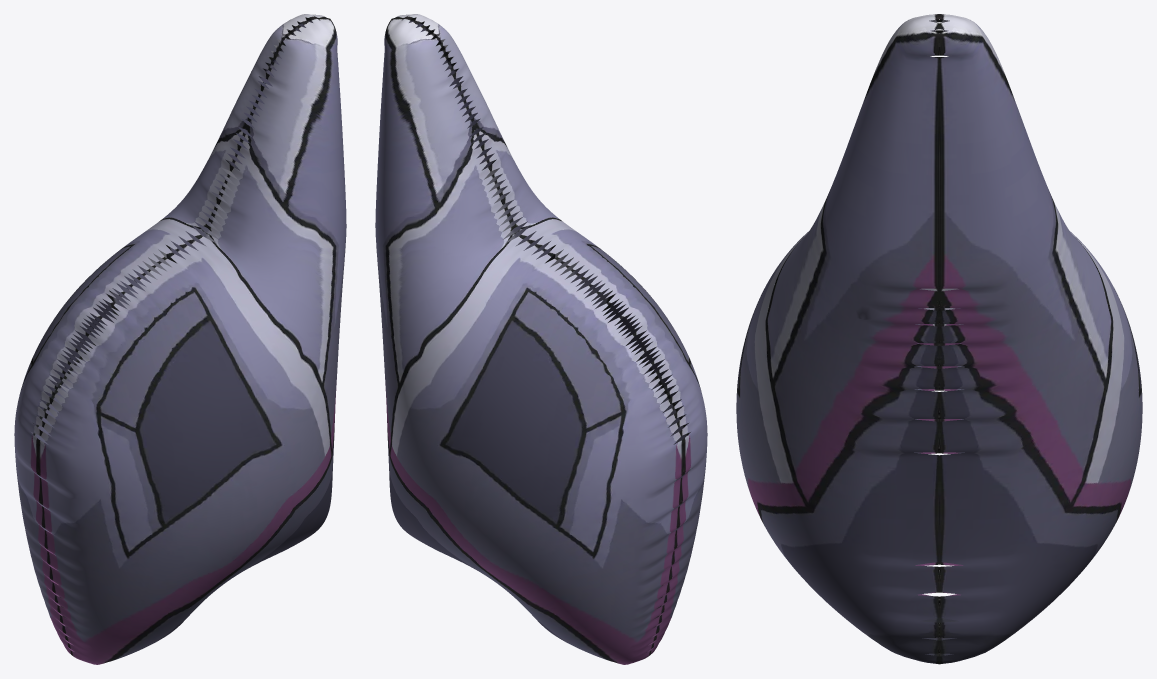
File: edge_shroud.glb
3 views of the same model, side by side, from view 1: azimuth 30°, elevation 25°; view 2: azimuth 150°, elevation 25°; view 3: azimuth 270°, elevation 25° (orthographic). The views are drawn at different scales.
Parts seen in each view (by area): view 1: edge_shroud; view 2: edge_shroud; view 3: edge_shroud.
Boxes of the visible parts, <box> form: edge_shroud: <box>14,14,346,664</box>; edge_shroud: <box>375,14,707,664</box>; edge_shroud: <box>736,14,1142,664</box>.
Size of the model in its own units: 0.9791 by 1.88 by 0.9059.
Materials: 1 (1 with a texture image).
